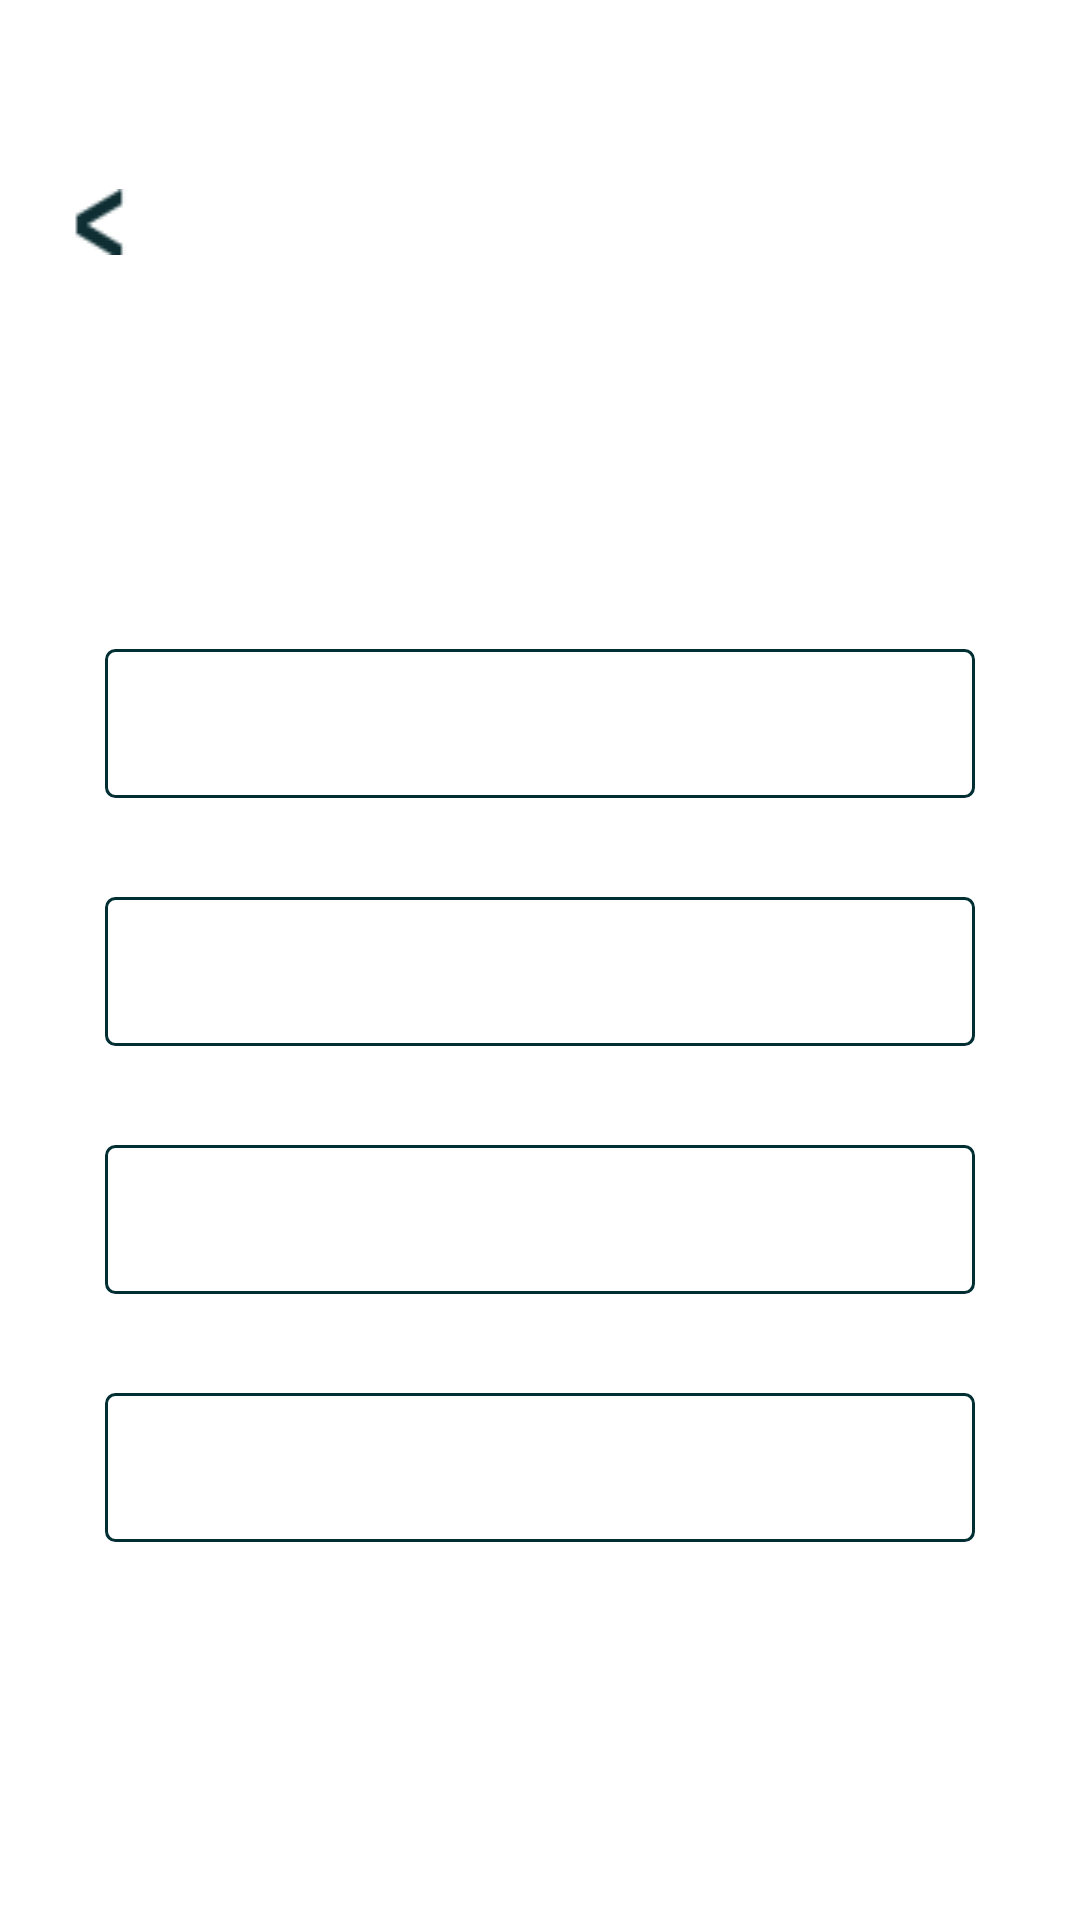

Icon bounding boxes for this 1080 x 1920 phone screenshot, format [left=x1, top=y1, right=x2, bottom=y2]:
back: [left=75, top=189, right=123, bottom=255]
